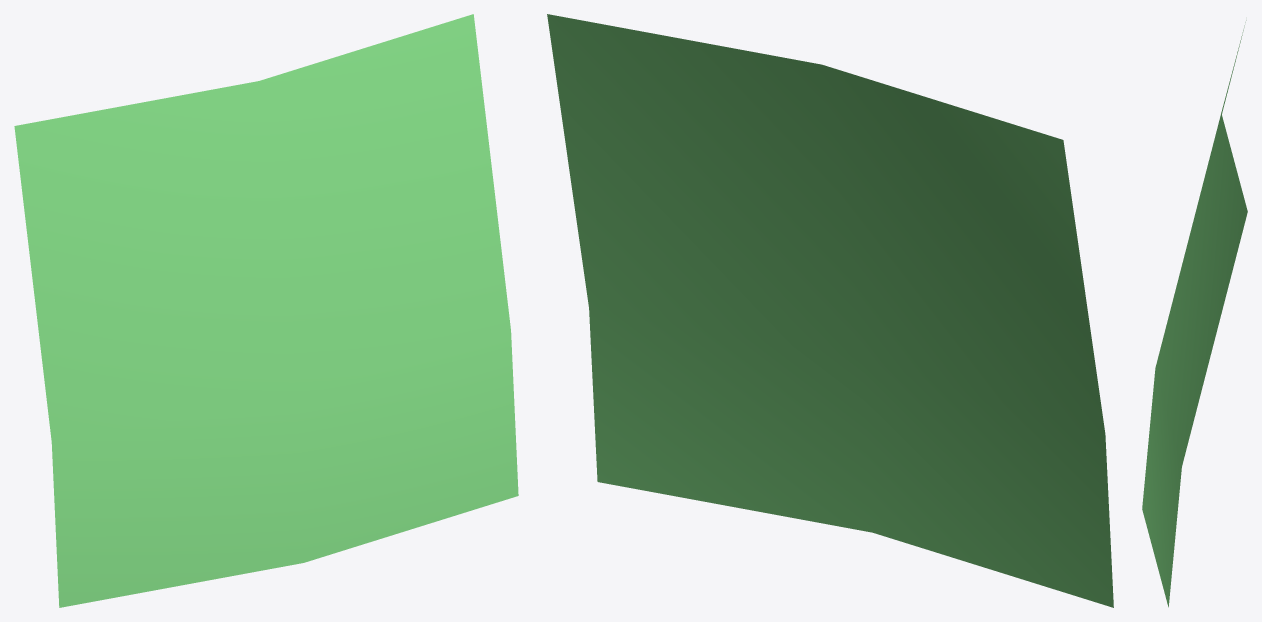
File: GrassPlane_a_TwoS_04.fbx
3 views of the same model, side by side, from view 1: azimuth 30°, elevation 25°; view 2: azimuth 150°, elevation 25°; view 3: azimuth 270°, elevation 25° (orthographic). The views are drawn at different scales.
Visible parts, largest first — view 1: GrassPlane_a_TwoS_04; view 2: GrassPlane_a_TwoS_04; view 3: GrassPlane_a_TwoS_04.
Part boxes in pixels (x1=…): GrassPlane_a_TwoS_04: x1=14, y1=14, x2=518, y2=607; GrassPlane_a_TwoS_04: x1=547, y1=14, x2=1113, y2=607; GrassPlane_a_TwoS_04: x1=1142, y1=20, x2=1247, y2=607.
Size of the model in its own units: 57.71 by 53.93 by 13.04.
